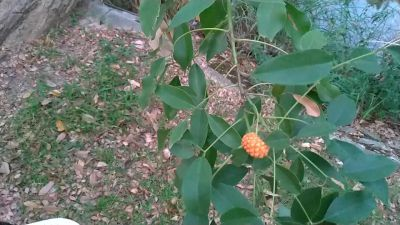eggs: (242, 131, 273, 161)
